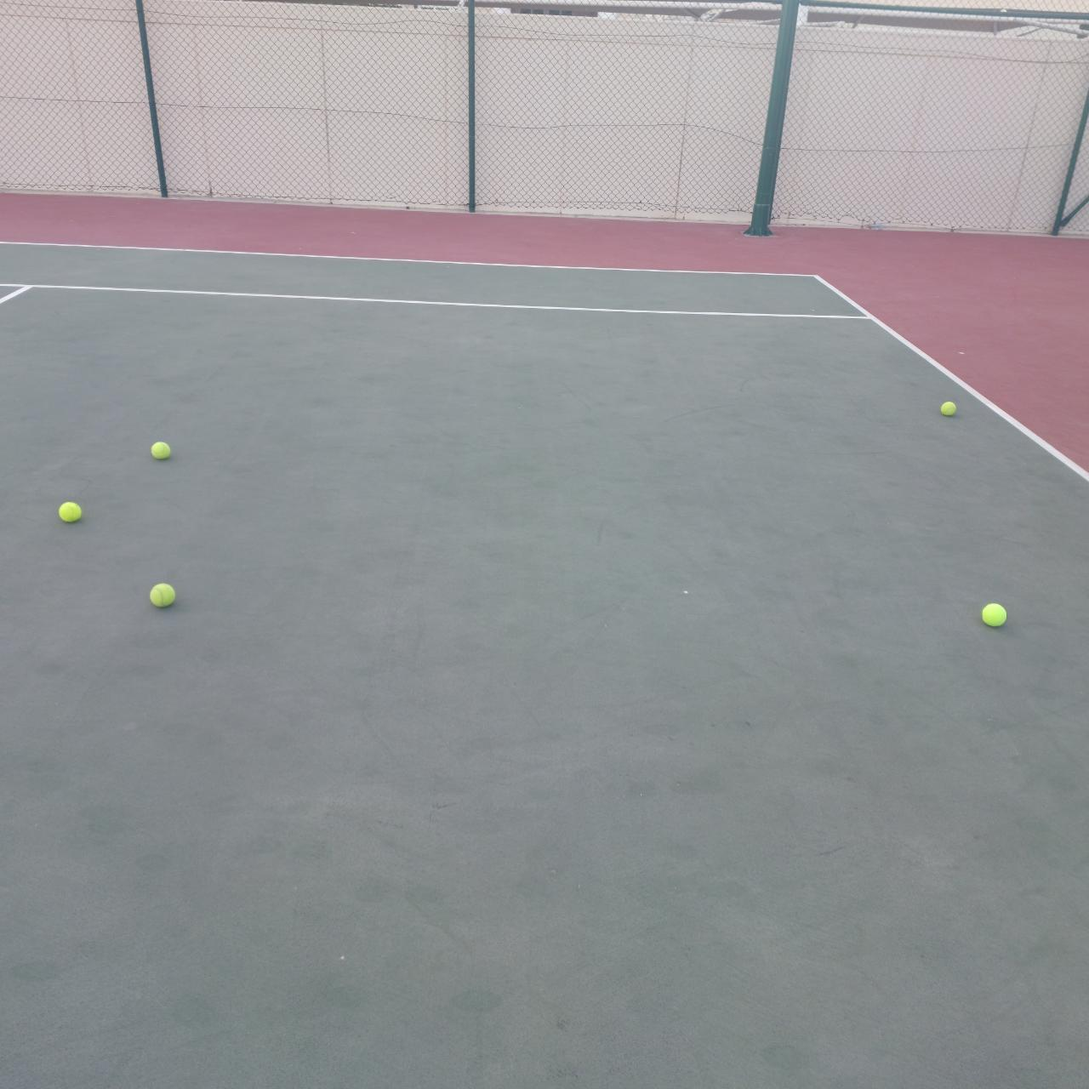tennis-ball: (149, 580, 178, 608), (981, 600, 1009, 627), (58, 499, 84, 522), (151, 439, 173, 460), (940, 399, 959, 417)
